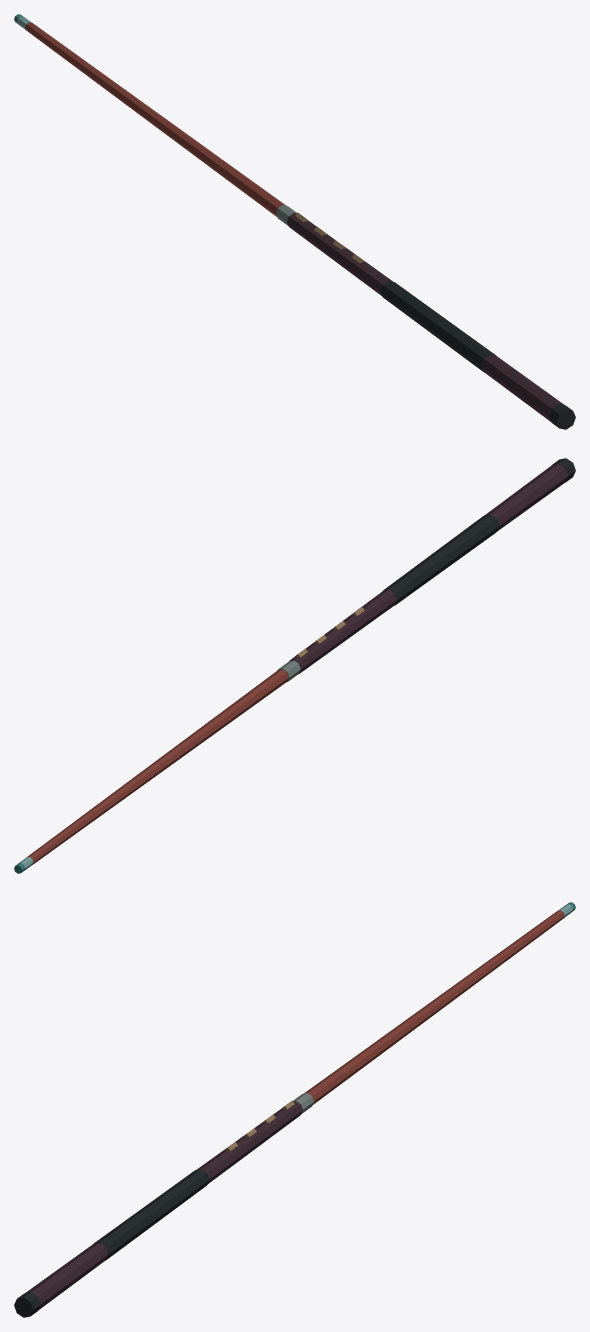
The model's file is tac_biliard.glb.
3 renders of one model, top to bottom at view 1: azimuth 30°, elevation 25°; view 2: azimuth 150°, elevation 25°; view 3: azimuth 330°, elevation 25°, orthographic.
Visible parts, largest first — view 1: Tac; view 2: Tac; view 3: Tac.
Boxes of the visible parts, box(x1,y1,x2,y2) form: Tac: box(14, 14, 575, 429); Tac: box(14, 458, 575, 873); Tac: box(14, 902, 575, 1317).
Bounding box in the file's own units: 0.0296 × 0.0305 × 1.45.
